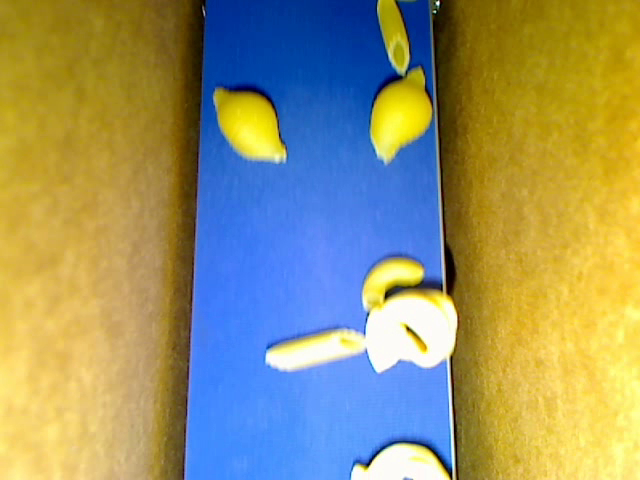elbow: (361, 254, 424, 313)
penne: (263, 327, 368, 374), (377, 1, 410, 77)
shell: (370, 65, 432, 164), (213, 86, 287, 163)
tortellini: (364, 290, 458, 375), (349, 441, 452, 479)
